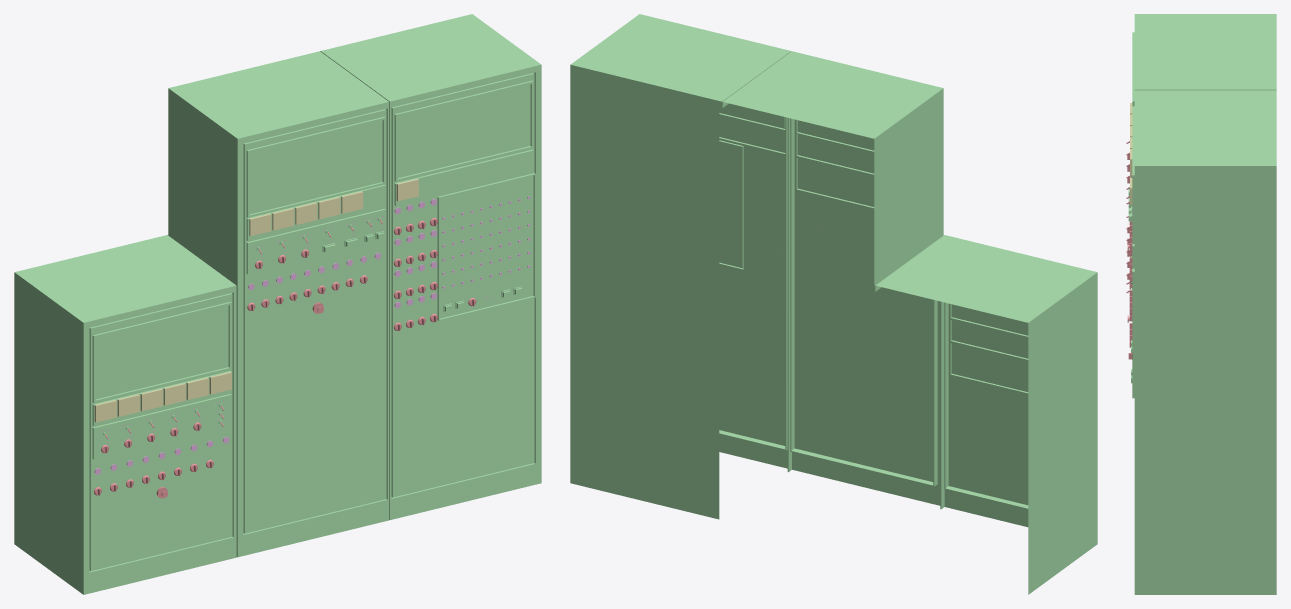
Rendered from Systems-Board.fbx.
3 renders of one model, left to right at view 1: azimuth 30°, elevation 25°; view 2: azimuth 150°, elevation 25°; view 3: azimuth 270°, elevation 25°, orthographic. The views are drawn at different scales.
Visible parts, largest first — view 1: Systems-Board-Frame; view 2: Systems-Board-Frame; view 3: Systems-Board-Frame.
Part boxes in pixels (box(x1,y1,x2,y2)): Systems-Board-Frame: box(14, 14, 541, 594); Systems-Board-Frame: box(570, 14, 1097, 594); Systems-Board-Frame: box(1128, 14, 1276, 594).
Bounding box in the file's own units: 229 × 200 × 63.51.
